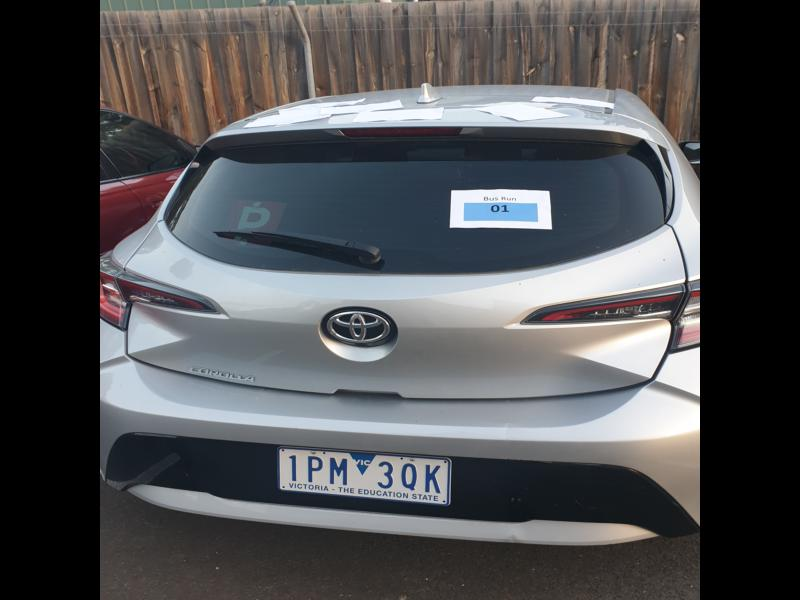BusRun: (462, 201, 539, 222)
PlateNo: (274, 444, 452, 506)
